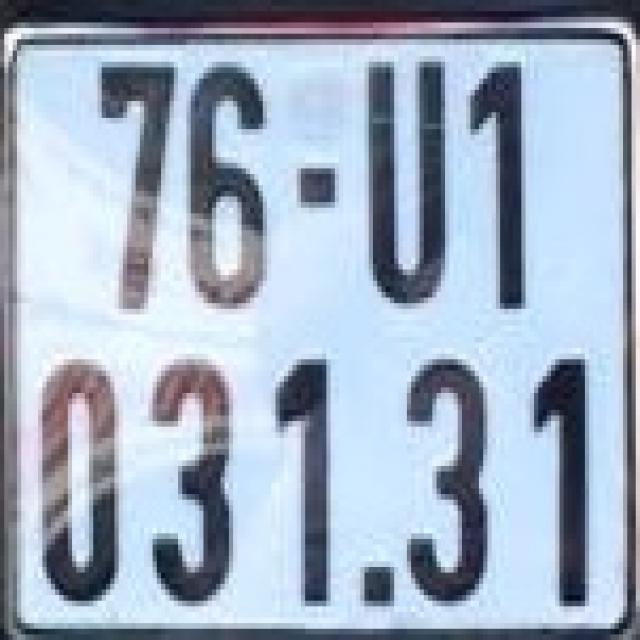0: (38, 354, 123, 600)
1: (466, 51, 543, 314), (272, 348, 344, 612), (530, 348, 598, 612)
3: (398, 348, 496, 606), (144, 348, 237, 606)
6: (182, 56, 272, 309)
7: (93, 56, 174, 314)
U: (356, 50, 458, 308)
